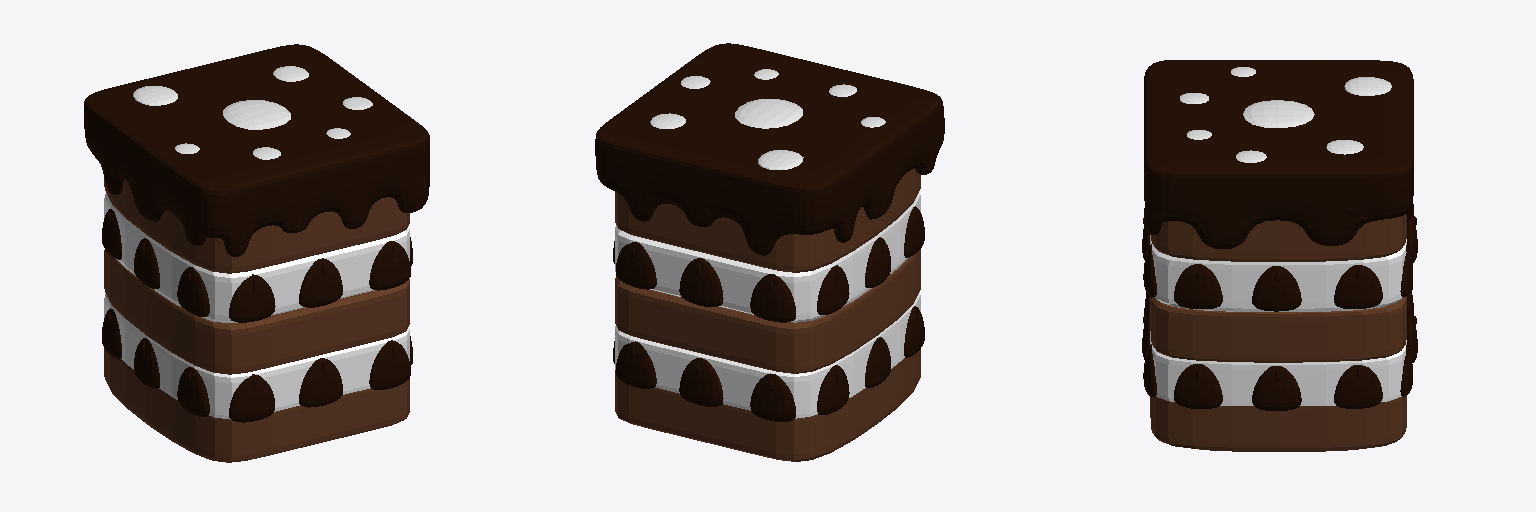
3 views of the same model, side by side, from view 1: azimuth 30°, elevation 25°; view 2: azimuth 150°, elevation 25°; view 3: azimuth 270°, elevation 25° (orthographic).
Visible parts, largest first — view 1: frosting_Material.008; view 2: frosting_Material.008; view 3: frosting_Material.008.
Part boxes in pixels (x1,y1,x2,y2): frosting_Material.008: (84,44,429,462); frosting_Material.008: (595,43,944,461); frosting_Material.008: (1142,60,1417,451).
Size of the model in its own units: 2.1 by 2.5 by 2.15.
1 materials, 1 textured.